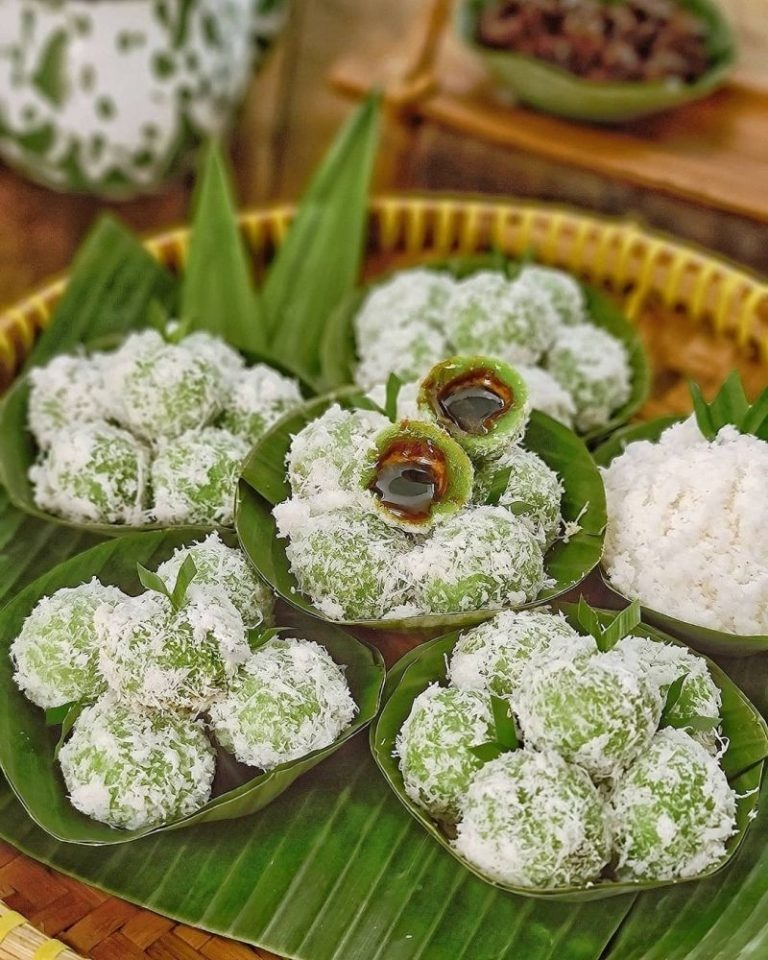klepon: (610, 742, 767, 921), (442, 749, 611, 897), (59, 698, 217, 837), (222, 634, 379, 770), (93, 586, 256, 711), (514, 642, 660, 763), (371, 432, 473, 531)
